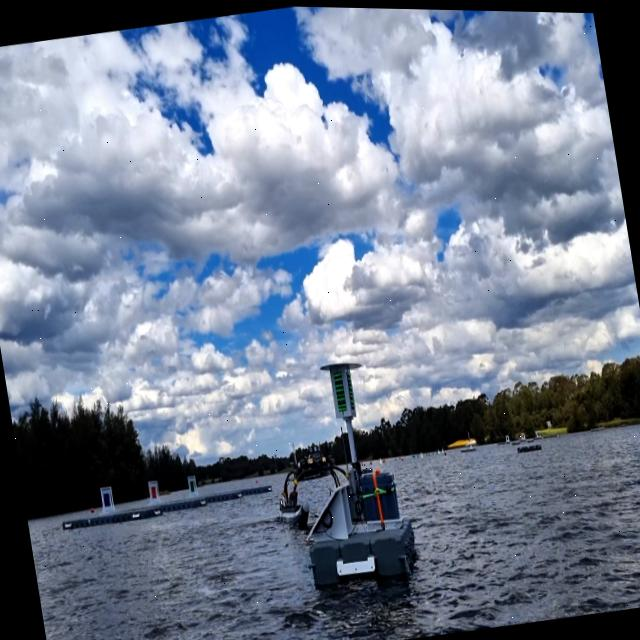led: (331, 366, 351, 415)
